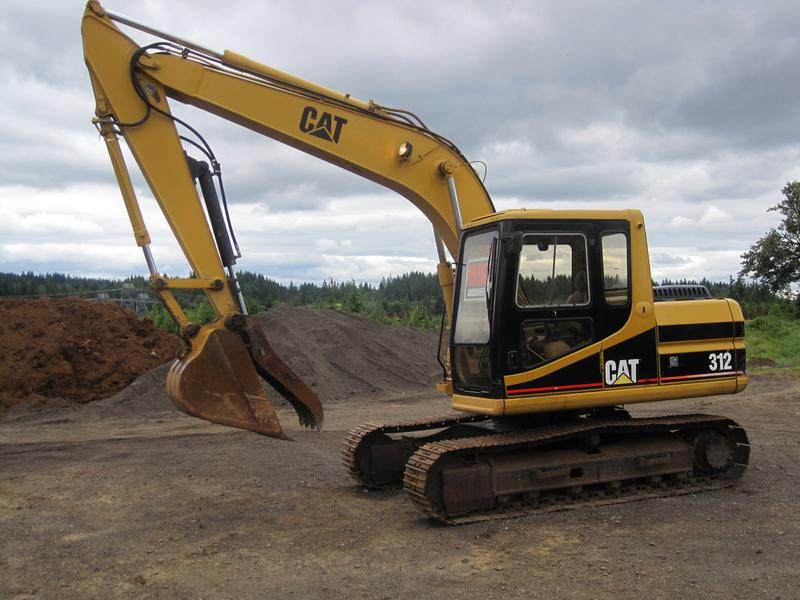shovel: (67, 3, 760, 525)
